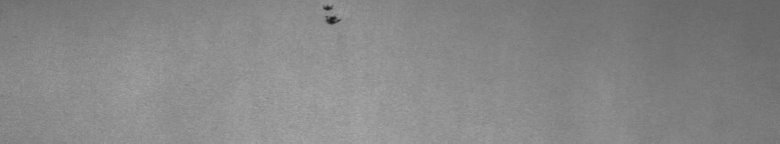fi: (319, 4, 344, 32)
